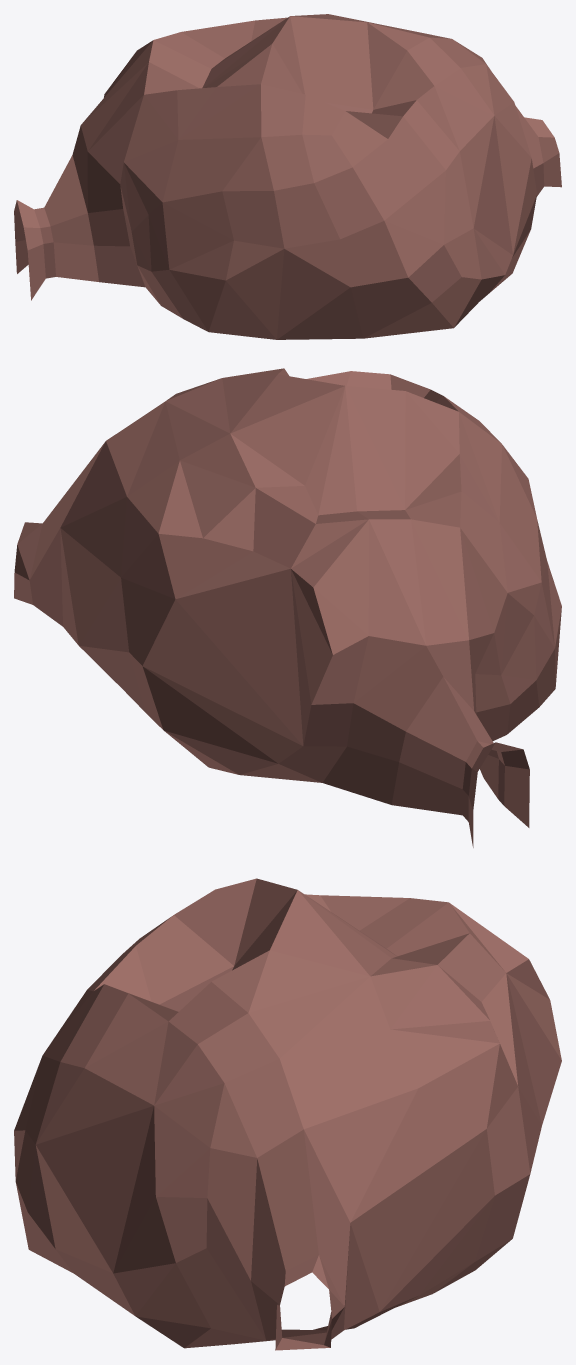
The model's file is Dome-2exits-04.fbx.
3 views of the same model, one above another, from view 1: azimuth 30°, elevation 25°; view 2: azimuth 150°, elevation 25°; view 3: azimuth 270°, elevation 25° (orthographic). The views are drawn at different scales.
Visible parts, largest first — view 1: Dome-2exits-04; view 2: Dome-2exits-04; view 3: Dome-2exits-04.
Part boxes in pixels (bbox=[...]): Dome-2exits-04: bbox=[14, 14, 561, 339]; Dome-2exits-04: bbox=[14, 368, 561, 847]; Dome-2exits-04: bbox=[14, 878, 561, 1350].
Size of the model in its own units: 2230 by 1268 by 1746.
